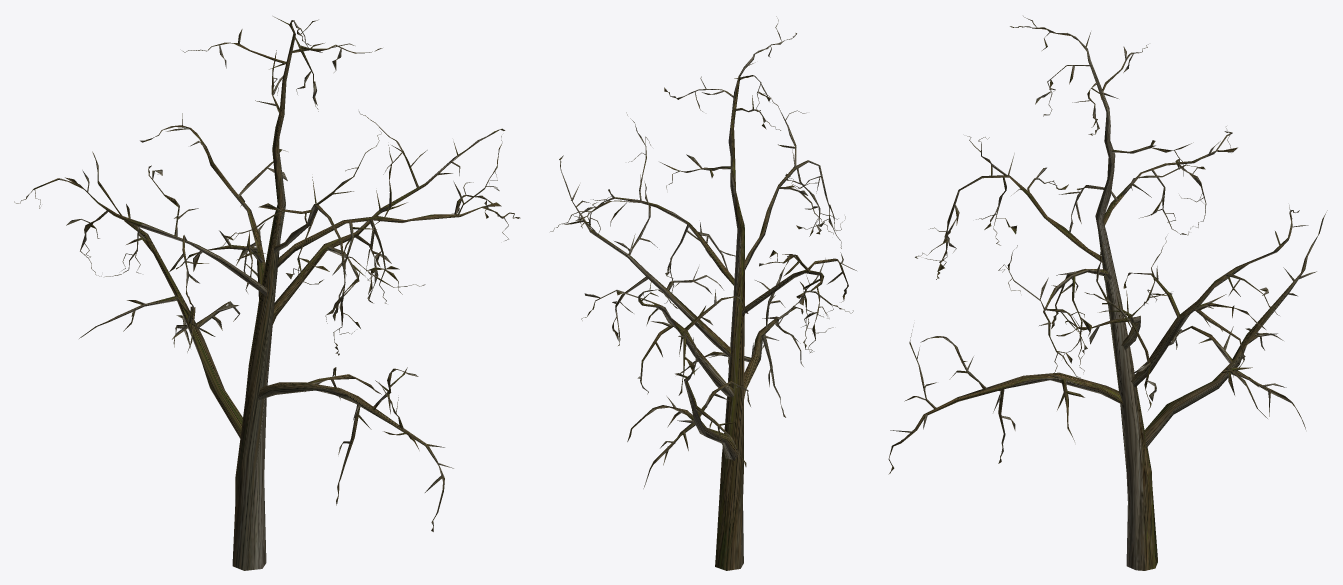
Rendered from ash_medium_trunk.glb.
3 views of the same model, side by side, from view 1: azimuth 30°, elevation 25°; view 2: azimuth 150°, elevation 25°; view 3: azimuth 270°, elevation 25° (orthographic). The views are drawn at different scales.
Parts seen in each view (by area): view 1: Tree; view 2: Tree; view 3: Tree.
Boxes of the visible parts, box(x1,y1,x2,y2) form: Tree: box(14, 16, 520, 570); Tree: box(550, 16, 856, 570); Tree: box(888, 16, 1327, 570).
Size of the model in its own units: 1.62 by 2.13 by 1.54.
Materials: 1 (1 with a texture image).
